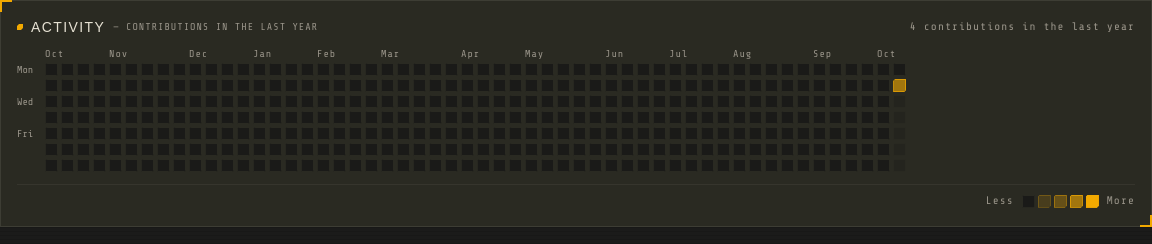
Scenario: ActivityCalendar tooltip › labels a hovered day using its recorded count
The image size is (1152, 244).
Hover over the cell named "4 contributions on Oct 06, 2026".
mouse_move(900, 86)  # box [893,79,906,92]
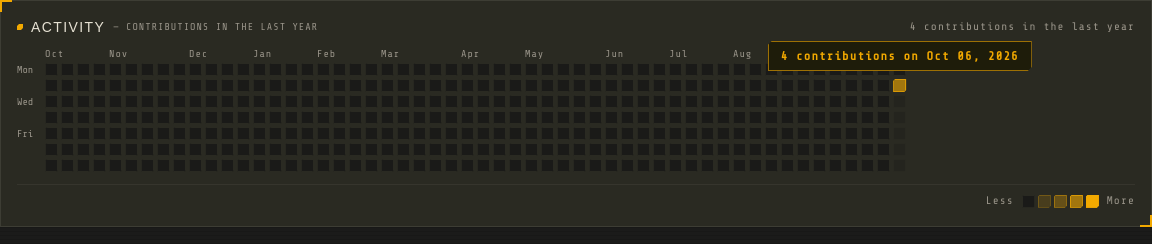
Result: the tooltip shows "4 contributions" at [781,49,1019,63]
